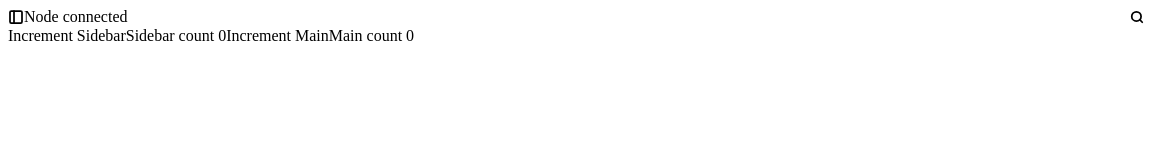
Test: AppShellChrome › keeps sidebar and main children mounted through collapse and hiding
Click the button "Increment Sidebar" at (67, 36), box [8,26,126,46]
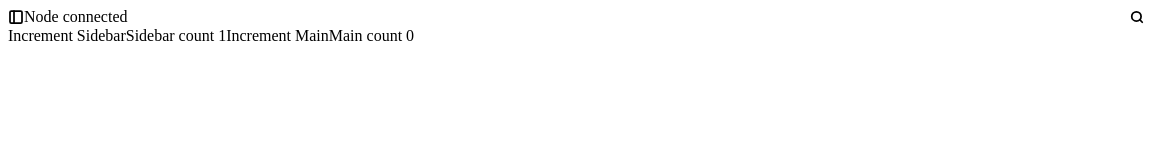
Click the button "Increment Main" at (278, 36), box [226,26,329,46]
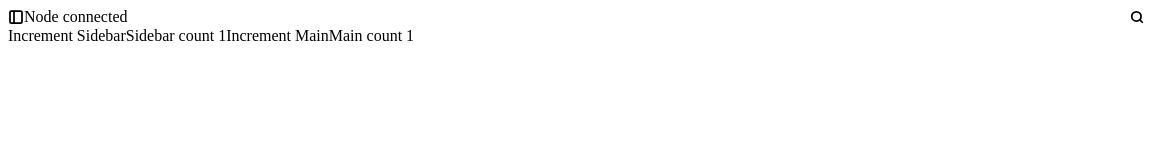
Click the button named "Workspace navigation" at (16, 17), box [8,9,24,25]
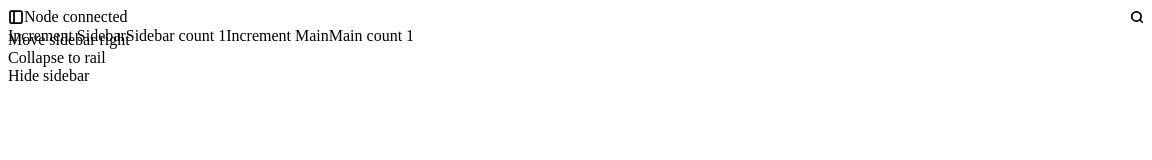
Click the menu item "Collapse to rail" at (57, 58), box [8,49,106,66]
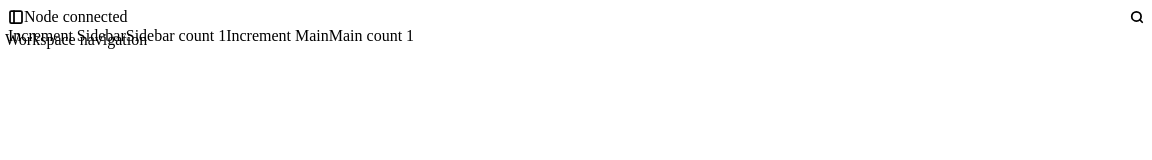
Expected: the text "Sidebar count 1" is shown, [126,27,226,44]
Expected: the text "Main count 1" is shown, [329,27,414,44]
Expected: the menu is gone
Click the button named "Workspace navigation" at (16, 17), box [8,9,24,25]
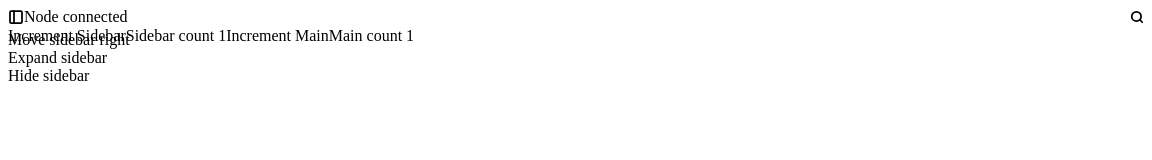
Click the menu item "Hide sidebar" at (49, 76), box [8,67,89,84]
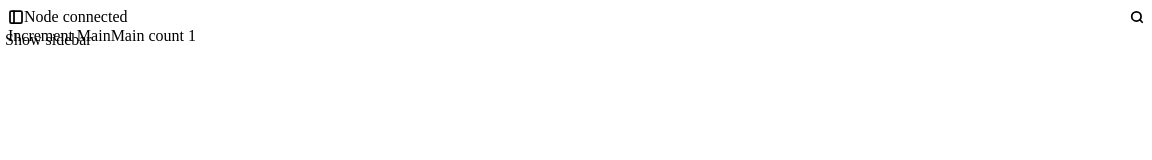
Expected: the text "Main count 1" is shown, [111,27,196,44]
Expected: the menu is gone
